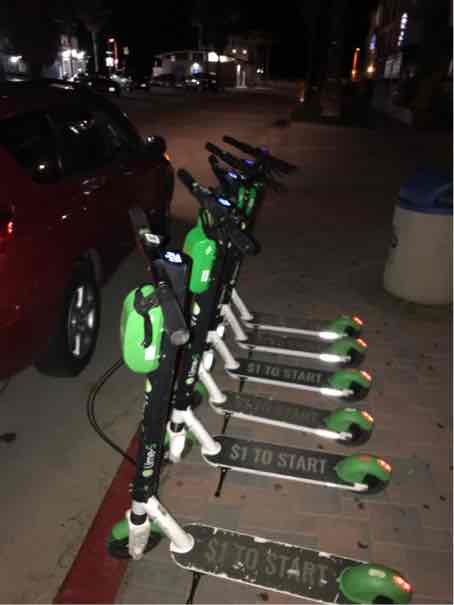too close: (84, 494, 189, 581)
